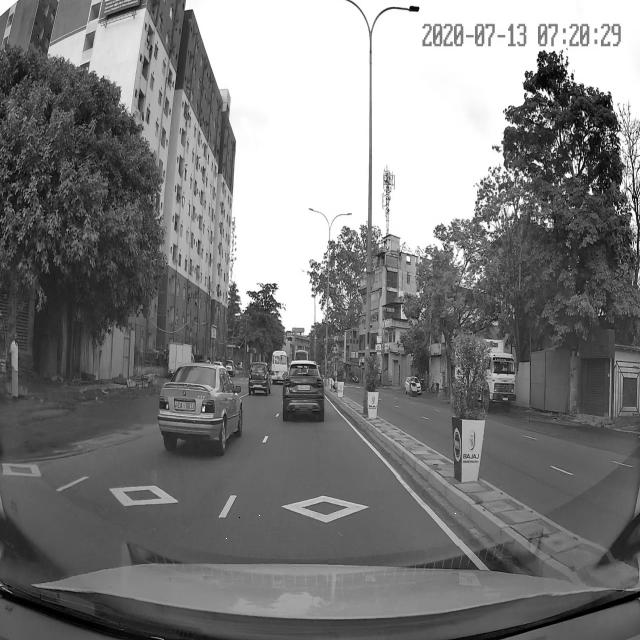diamond: (186, 477, 460, 546)
